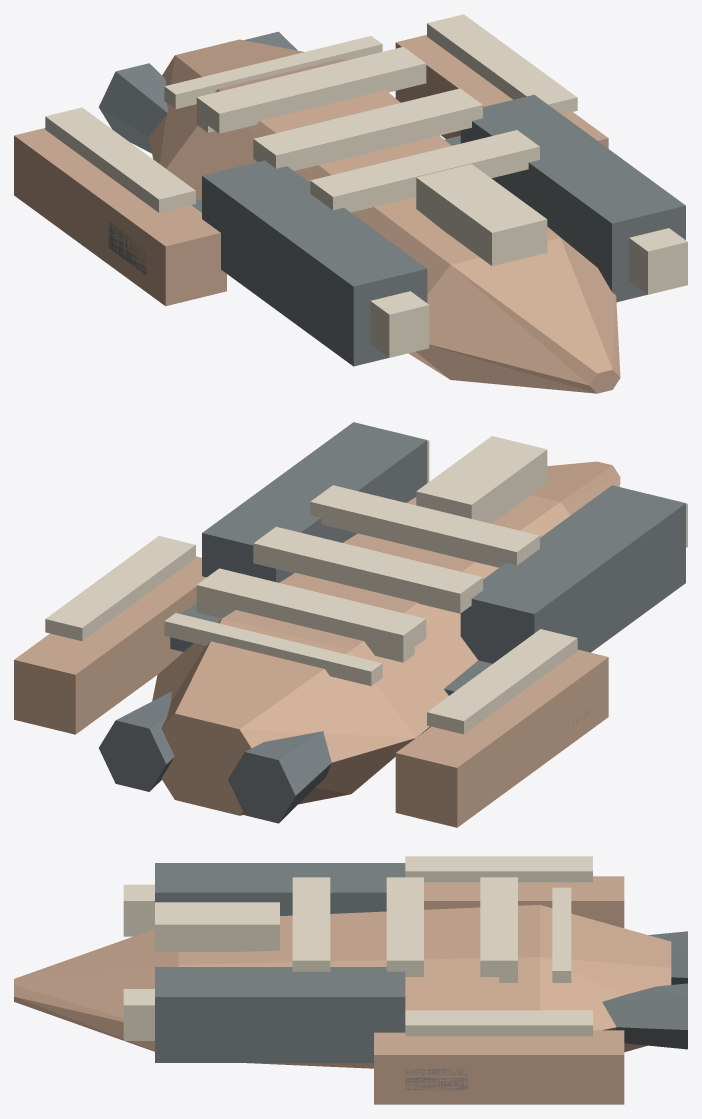
3 renders of one model, top to bottom at view 1: azimuth 30°, elevation 25°; view 2: azimuth 150°, elevation 25°; view 3: azimuth 270°, elevation 25°, orthographic. The views are drawn at different scales.
Size of the model in its own units: 2.62 by 0.9334 by 4.18.
